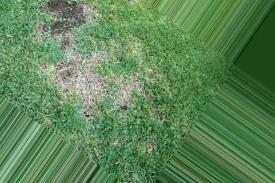patch: (61, 57, 111, 116), (48, 3, 96, 37)
